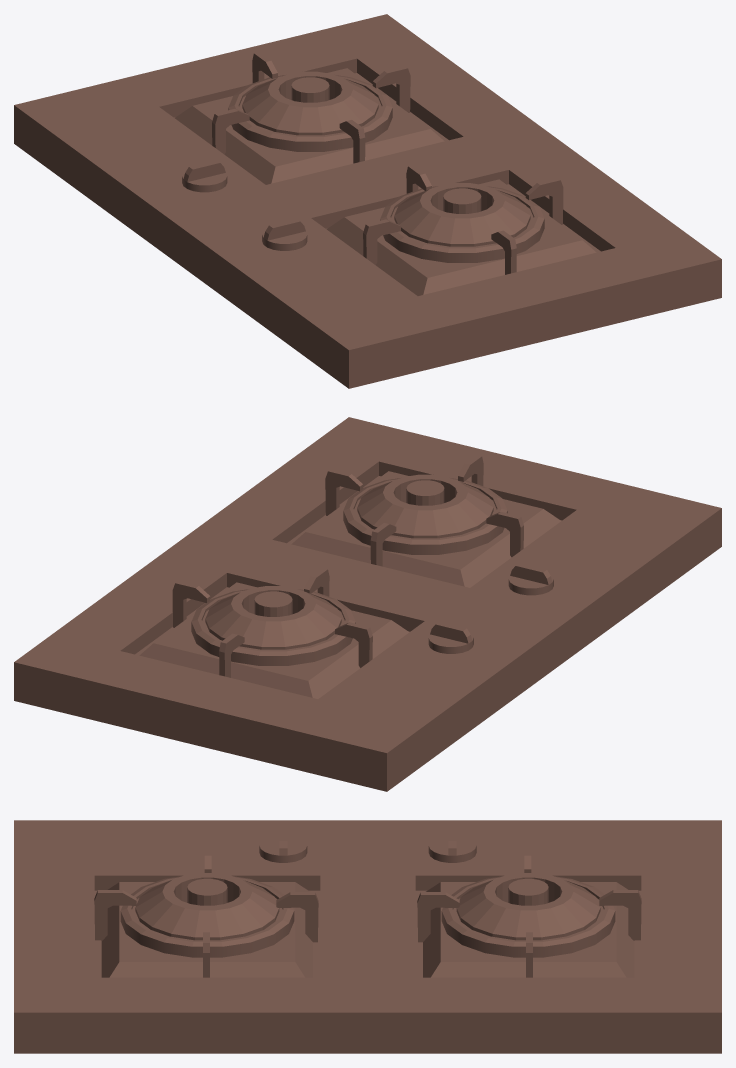
File: zaotai.fbx
3 views of the same model, one above another, from view 1: azimuth 30°, elevation 25°; view 2: azimuth 150°, elevation 25°; view 3: azimuth 270°, elevation 25° (orthographic). The views are drawn at different scales.
Parts seen in each view (by area): view 1: Box008; view 2: Box008; view 3: Box008.
Part boxes in pixels (x1=…): Box008: x1=14, y1=14, x2=721, y2=388; Box008: x1=14, y1=417, x2=721, y2=791; Box008: x1=14, y1=820, x2=721, y2=1053.
Bounding box in the file's own units: 11.52 × 2.23 × 17.91.
